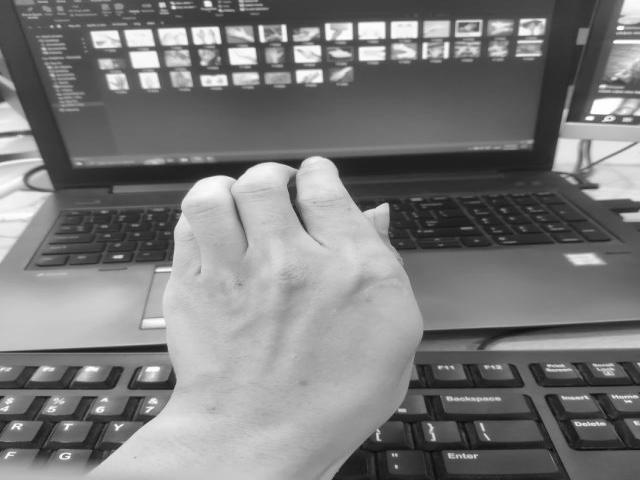not-gloved: (151, 160, 425, 467)
